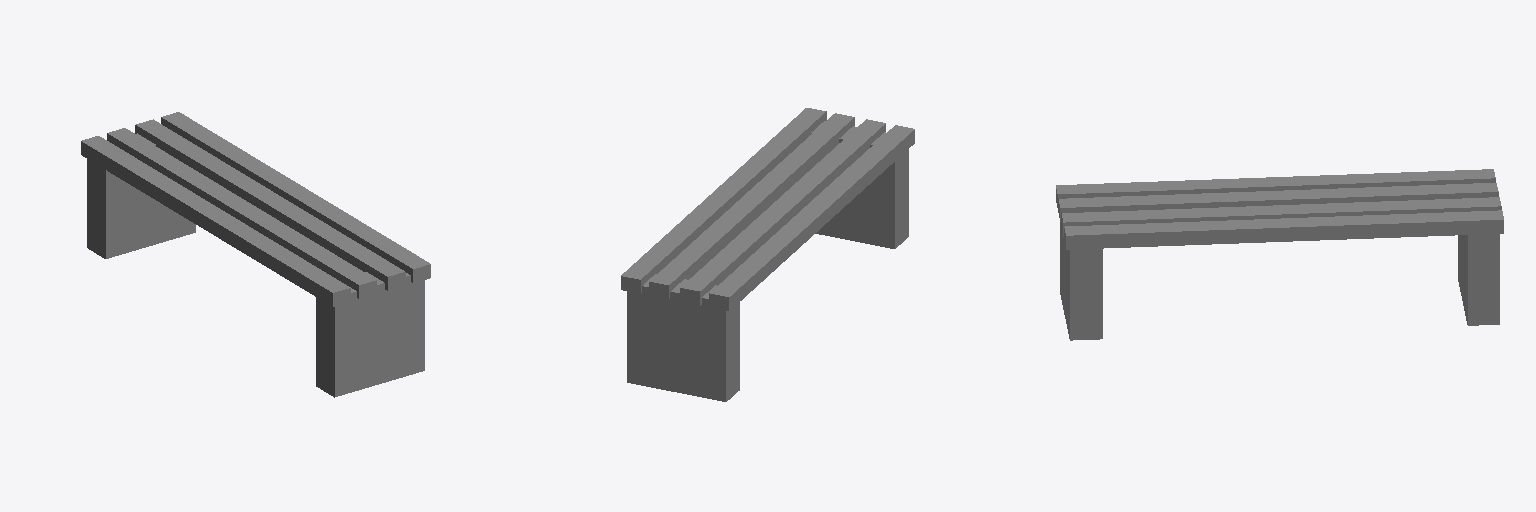
Rendered from Obstacle_063.obj.
The picture shows the model from 3 angles: view 1: azimuth 30°, elevation 25°; view 2: azimuth 150°, elevation 25°; view 3: azimuth 270°, elevation 25°; orthographic projection.
Parts seen in each view (by area): view 1: Box159, Box158, Box157; view 2: Box159, Box157, Box158; view 3: Box159, Box158, Box157.
Boxes of the visible parts, x1=… form: Box159: x1=81, y1=112, x2=430, y2=306; Box158: x1=316, y1=272, x2=424, y2=397; Box157: x1=87, y1=133, x2=195, y2=258; Box159: x1=621, y1=108, x2=914, y2=310; Box157: x1=627, y1=274, x2=739, y2=401; Box158: x1=811, y1=121, x2=908, y2=248; Box159: x1=1056, y1=169, x2=1503, y2=249; Box158: x1=1060, y1=222, x2=1102, y2=340; Box157: x1=1458, y1=234, x2=1499, y2=325.
Size of the model in its own units: 28.26 by 21.16 by 80.31.